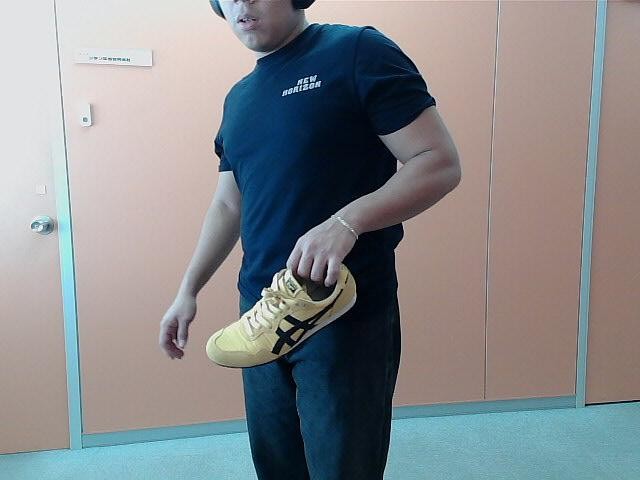Shoes: (203, 255, 357, 372)
